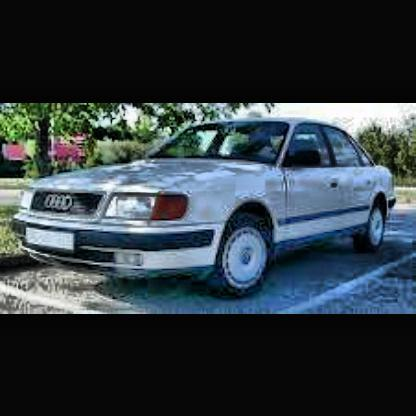Audi 100 Sedan 1994: (12, 120, 400, 305)
